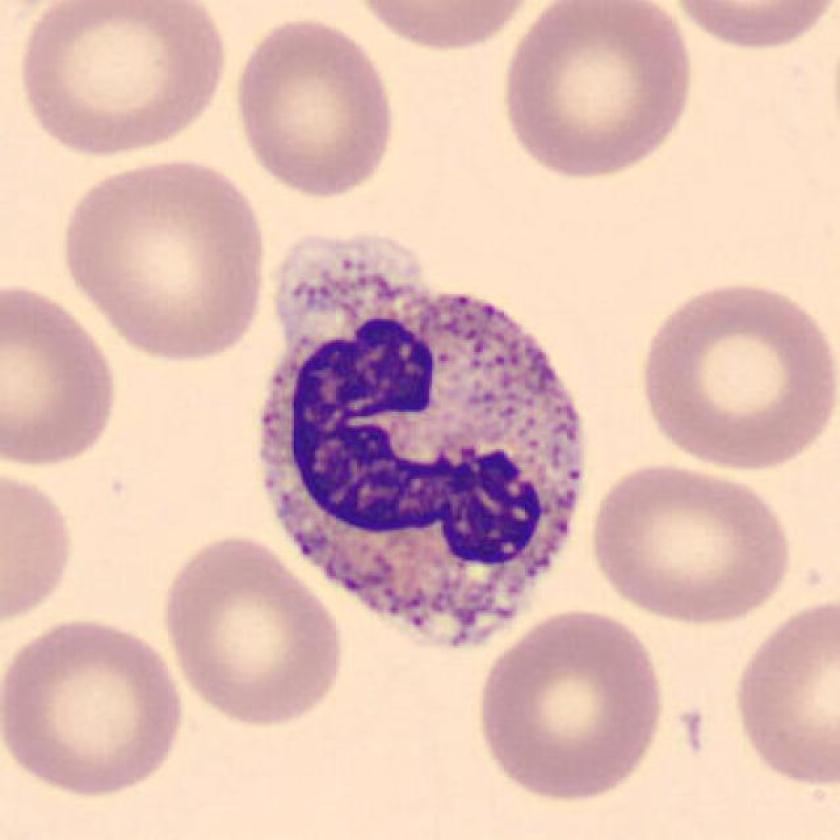neutrophil: (260, 232, 587, 648)
